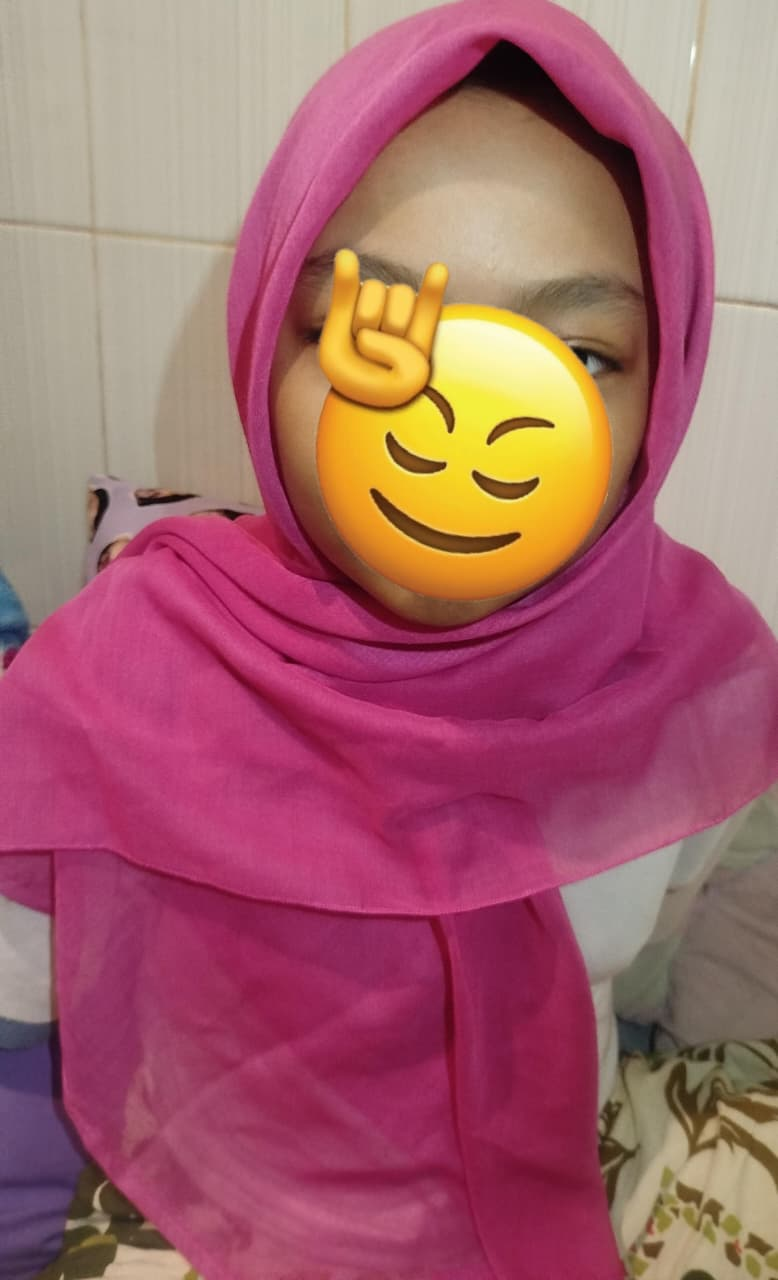kerudung_benar: (108, 21, 707, 799)
